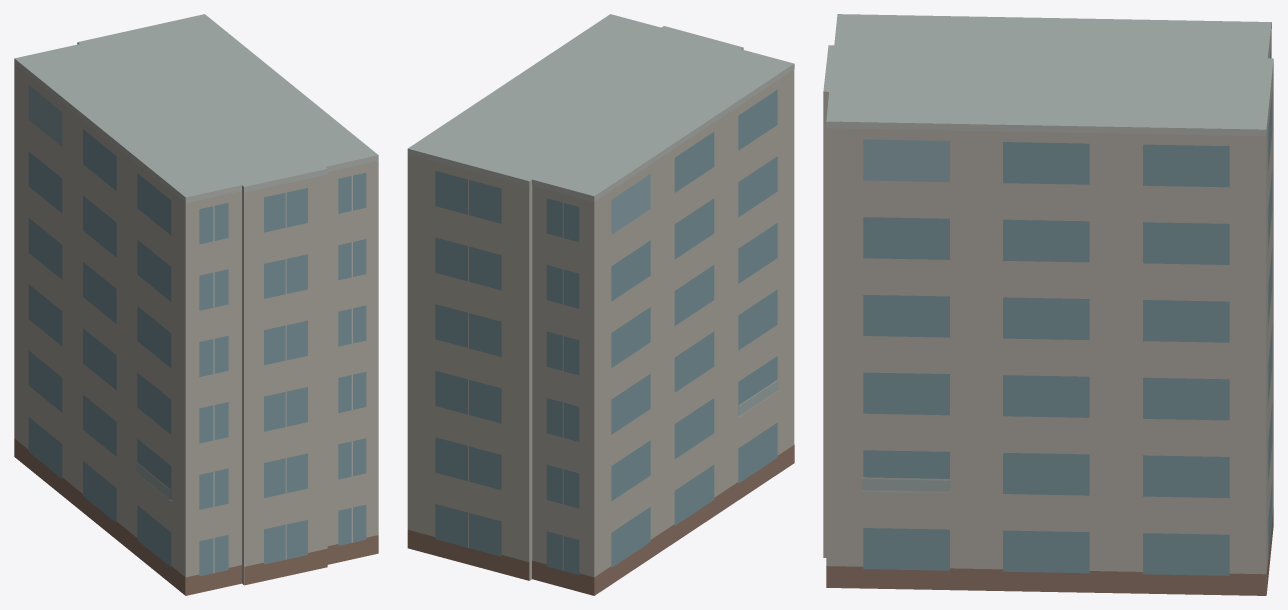
Rendered from survey-upis-32563465.glb.
3 views of the same model, side by side, from view 1: azimuth 30°, elevation 25°; view 2: azimuth 150°, elevation 25°; view 3: azimuth 270°, elevation 25° (orthographic). The views are drawn at different scales.
Visible parts, largest first — view 1: survey-upis-32563465.tmp; view 2: survey-upis-32563465.tmp; view 3: survey-upis-32563465.tmp.
Boxes of the visible parts, <box> form: survey-upis-32563465.tmp: <box>14,14,378,595</box>; survey-upis-32563465.tmp: <box>407,14,794,595</box>; survey-upis-32563465.tmp: <box>823,14,1273,595</box>.
Size of the model in its own units: 9.21 by 17.3 by 15.15.
